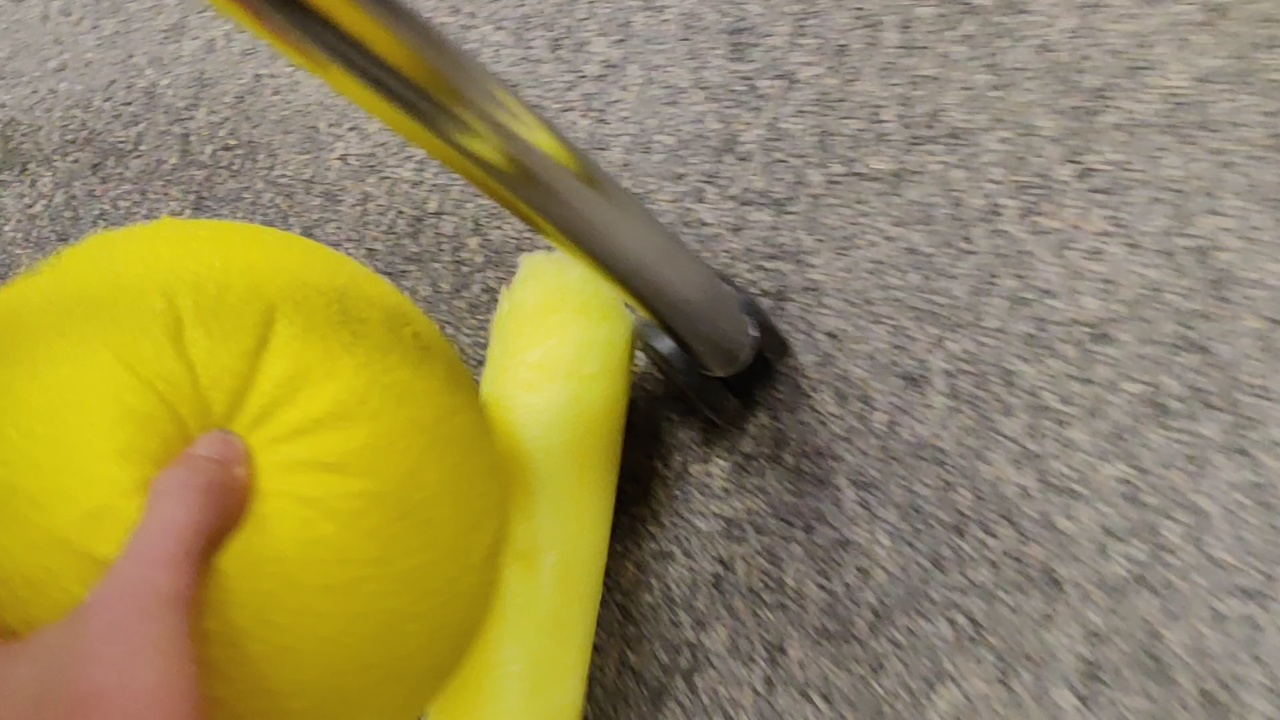Ball: (1, 222, 494, 709)
